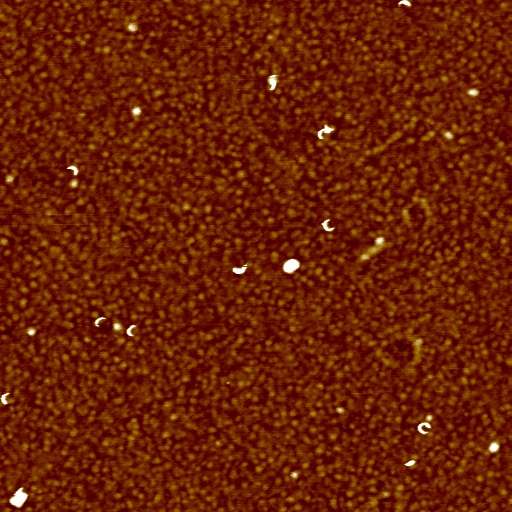-1: (8, 483, 29, 511), (280, 256, 301, 276), (264, 73, 281, 94), (488, 440, 500, 455), (403, 458, 418, 469), (466, 86, 480, 97), (130, 107, 141, 115)
1/4: (64, 162, 82, 178), (395, 1, 416, 7)
2/4: (314, 124, 335, 142), (91, 312, 109, 331), (227, 262, 251, 276), (125, 321, 138, 341), (321, 217, 336, 233), (1, 388, 11, 411)
3/4: (416, 420, 432, 437)
